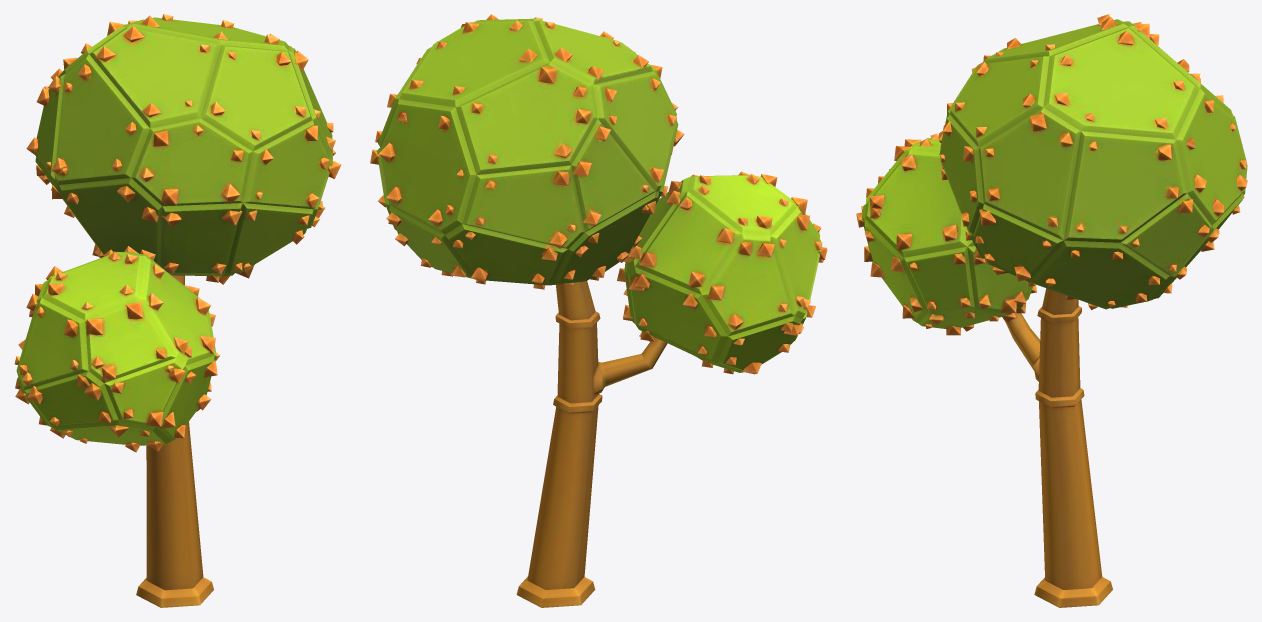
The model's file is obj_tree03_base.gltf.
3 renders of one model, left to right at view 1: azimuth 30°, elevation 25°; view 2: azimuth 150°, elevation 25°; view 3: azimuth 270°, elevation 25°, orthographic.
Visible parts, largest first — view 1: obj_tree03_base; view 2: obj_tree03_base; view 3: obj_tree03_base.
Part boxes in pixels (x1,y1,x2,y2): obj_tree03_base: [14, 14, 341, 607]; obj_tree03_base: [370, 14, 827, 607]; obj_tree03_base: [856, 14, 1247, 607].
Size of what is drawn, in the model's own units: 3.81 by 5.78 by 3.64.
Materials: 1 (1 with a texture image).
